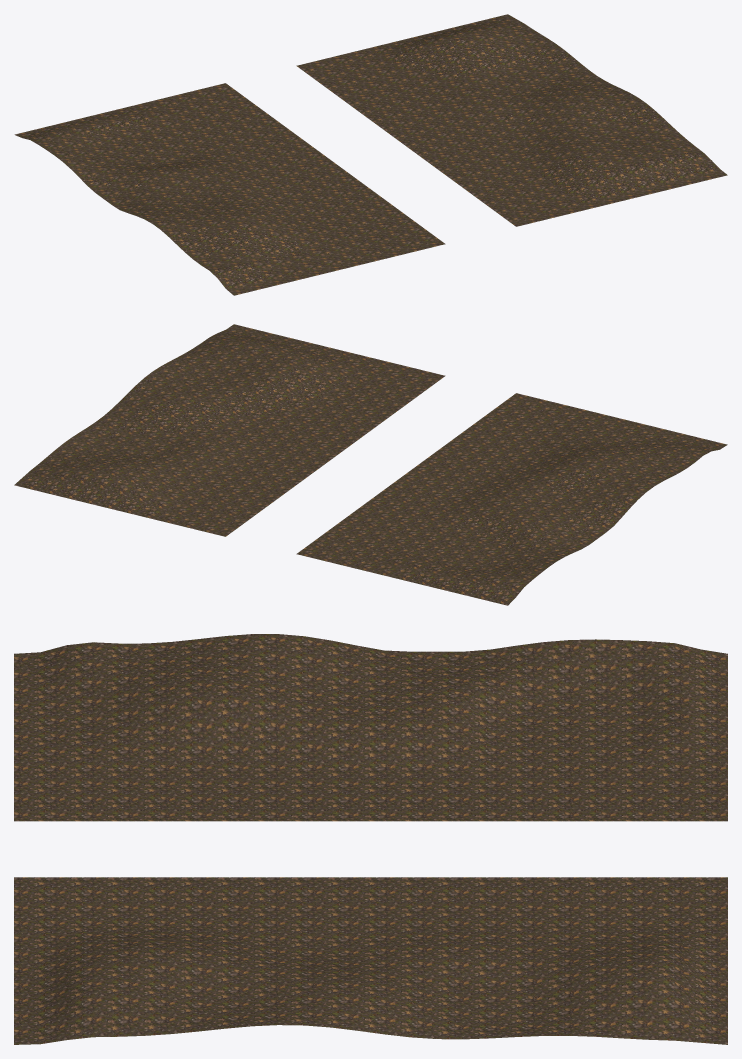
Rendered from zalesye_landform.gltf.
The picture shows the model from 3 angles, top to bottom: view 1: azimuth 30°, elevation 25°; view 2: azimuth 150°, elevation 25°; view 3: azimuth 270°, elevation 25°; orthographic projection. The views are drawn at different scales.
Visible parts, largest first — view 1: zalesye_landform; view 2: zalesye_landform; view 3: zalesye_landform.
Boxes of the visible parts, x1=… form: zalesye_landform: x1=14, y1=14, x2=727, y2=295; zalesye_landform: x1=14, y1=324, x2=727, y2=605; zalesye_landform: x1=14, y1=634, x2=727, y2=1044.
Size of the model in its own units: 70 by 1.78 by 54.
1 material, 1 textured.
